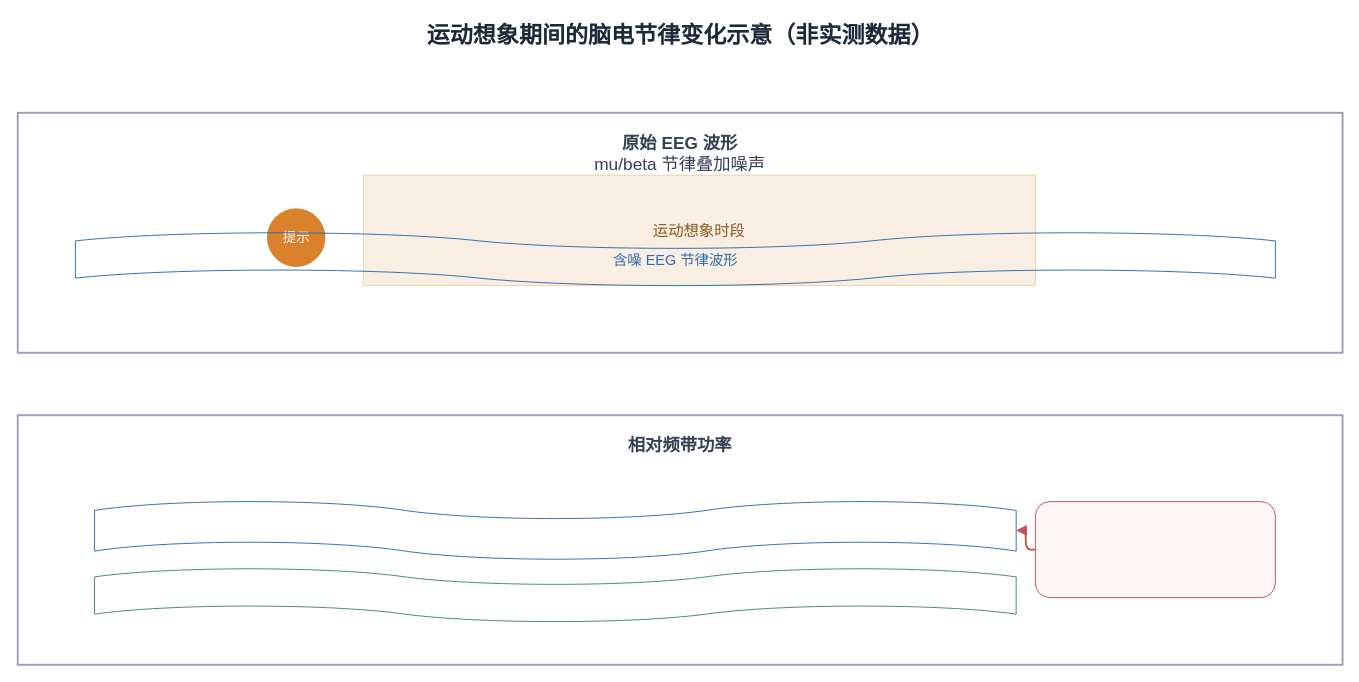
Some shapes in this 1359 by 682 pixel diagram are drawn without their labels. The shapes that lost their labels are listed below. From the top down, each one's centre as x and y in pixels, then its label:
[555,530]: mu 8-12 Hz：提示后功率下降
[1154,549]: 事件相关去同步化（ERD） 运动想象时，mu/beta 功率通常下降
[555,595]: beta 16-28 Hz：较缓功率下降
